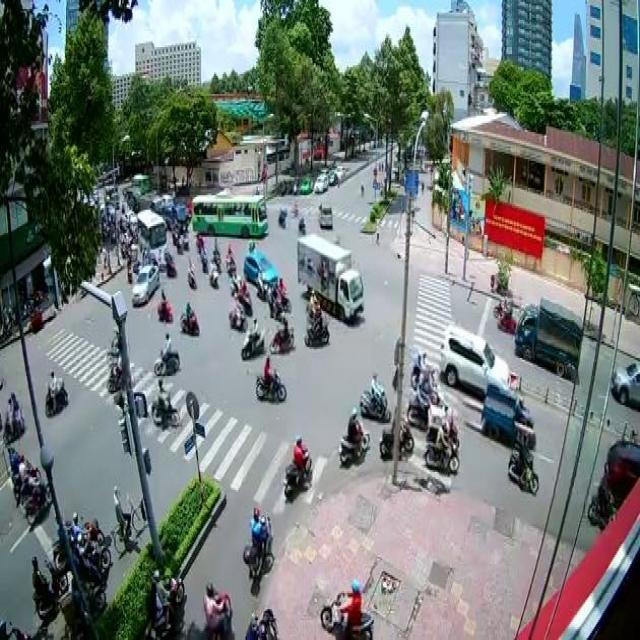bicycle: (111, 483, 148, 553)
bus: (191, 192, 267, 238), (135, 206, 168, 264)
car: (441, 322, 510, 398), (243, 250, 276, 291), (131, 264, 160, 302), (317, 200, 334, 230)
motorcycle: (317, 575, 372, 640), (143, 567, 185, 640), (31, 553, 68, 622), (242, 504, 273, 580), (335, 405, 369, 468), (282, 434, 313, 501), (424, 420, 458, 476), (507, 432, 537, 494), (202, 580, 232, 640), (255, 354, 287, 405), (150, 378, 181, 430), (359, 370, 391, 420), (26, 463, 52, 524), (152, 331, 180, 376), (405, 384, 433, 428), (239, 314, 264, 362), (44, 369, 69, 416), (3, 390, 24, 443), (268, 313, 294, 354), (302, 309, 329, 345), (226, 289, 247, 331), (179, 298, 200, 338), (306, 284, 324, 322), (155, 288, 173, 324), (274, 275, 291, 309), (186, 255, 199, 289), (208, 252, 218, 290)
truck: (296, 228, 364, 325), (514, 294, 581, 382)
